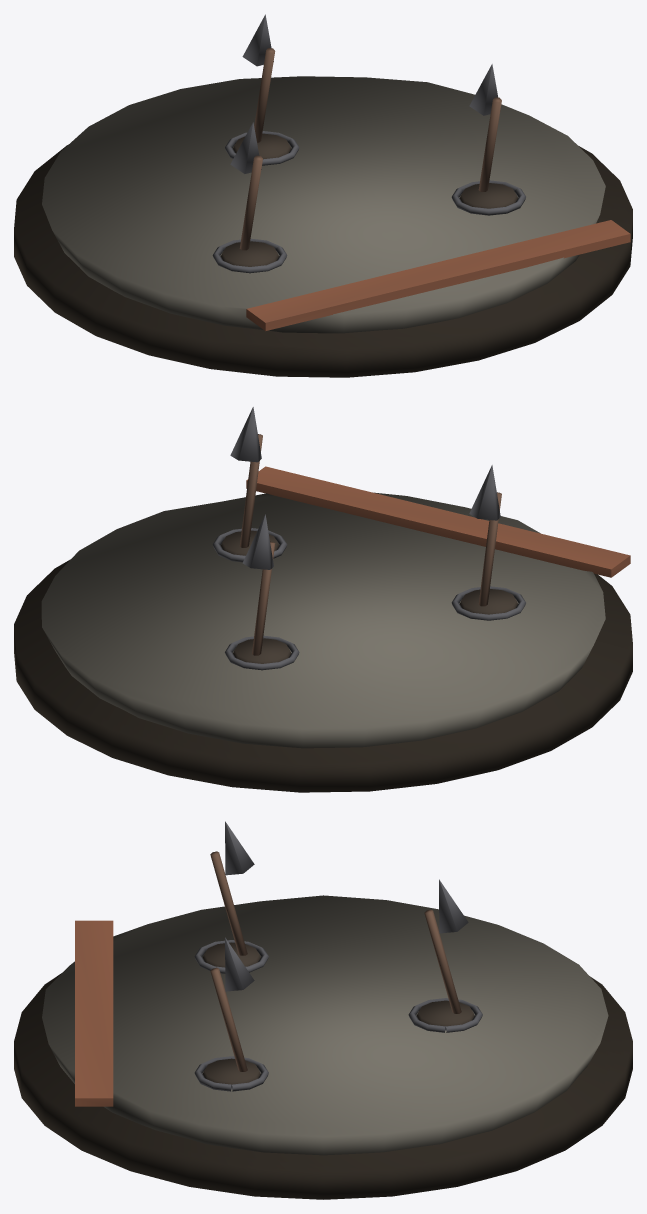
The model's file is kit_trap1.glb.
3 renders of one model, top to bottom at view 1: azimuth 30°, elevation 25°; view 2: azimuth 150°, elevation 25°; view 3: azimuth 270°, elevation 25°, orthographic.
Visible parts, largest first — view 1: kit_trap1; view 2: kit_trap1; view 3: kit_trap1.
Boxes of the visible parts, box(x1,y1,x2,y2) form: kit_trap1: box(14, 14, 632, 377); kit_trap1: box(14, 407, 632, 792); kit_trap1: box(14, 821, 632, 1199).
Bounding box in the file's own units: 0.81 × 0.2739 × 0.81.
